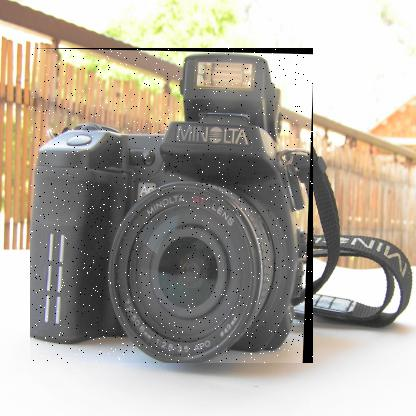Camera: (31, 49, 315, 365)
